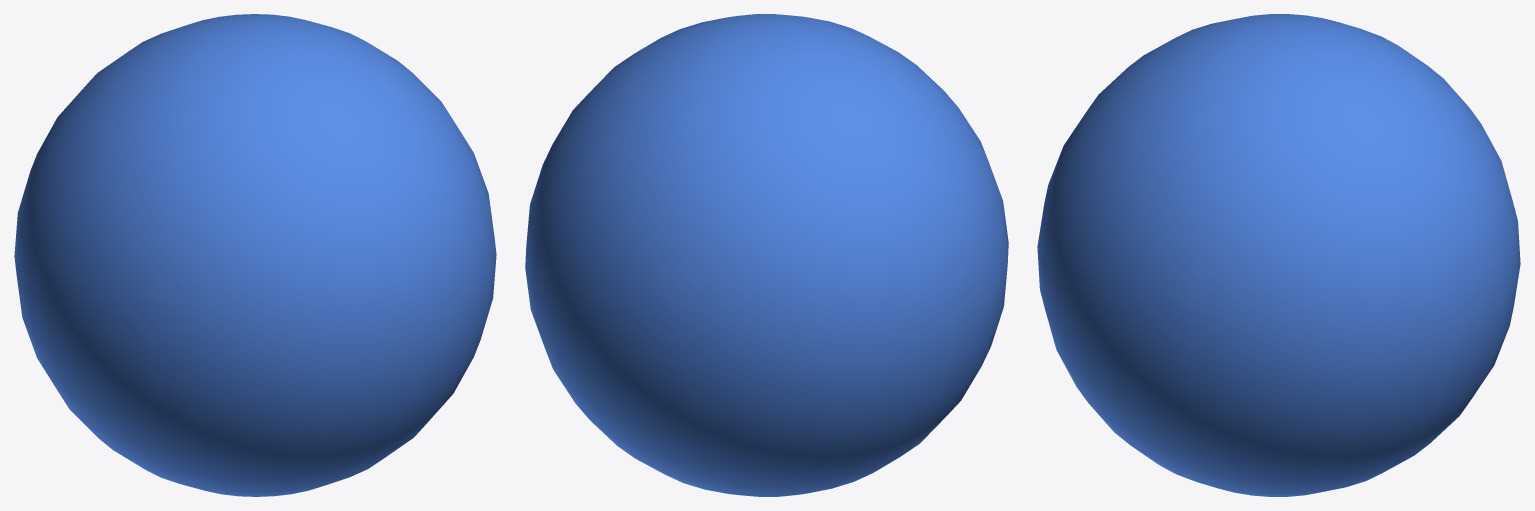
3 views of the same model, side by side, from view 1: azimuth 30°, elevation 25°; view 2: azimuth 150°, elevation 25°; view 3: azimuth 270°, elevation 25° (orthographic).
Parts seen in each view (by area): view 1: 对象008; view 2: 对象008; view 3: 对象008.
Boxes of the visible parts, box(x1,y1,x2,y2) form: 对象008: box(14, 14, 496, 496); 对象008: box(525, 14, 1008, 496); 对象008: box(1037, 14, 1520, 496).
Size of the model in its own units: 14 by 13.99 by 13.99.
Materials: 1 (1 with a texture image).
